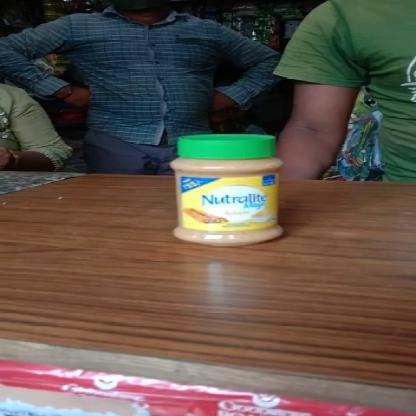Nutralite ACHARI MAYO 300g-275g-25g-: (166, 133, 282, 245)
